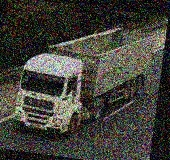truck: (11, 17, 157, 147)
